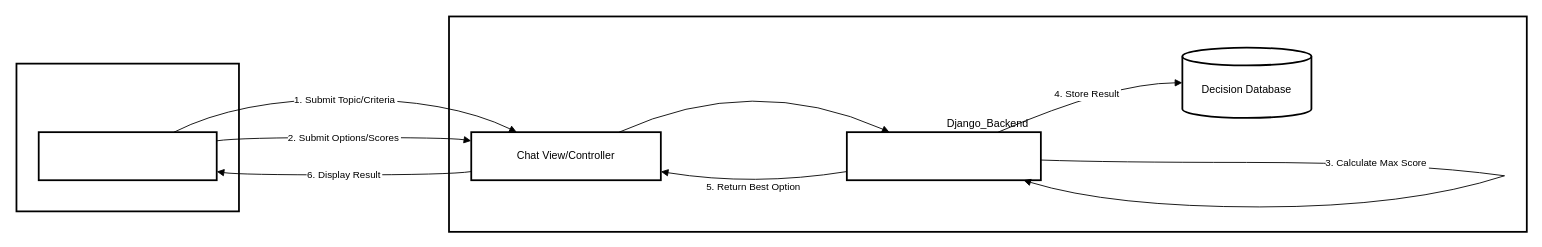
The diagram is 1542 pixels wide and 247 high, and some of its shapes have lost their labels. Each missing label, with the centre of its shape:
Decision Scoring Logic: (943,156)
User Chat Interface: (127,156)
